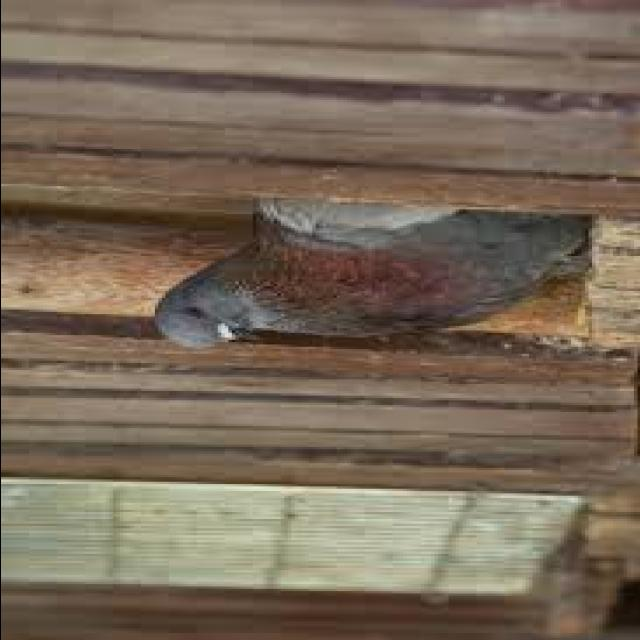pigeon: (150, 182, 640, 366)
